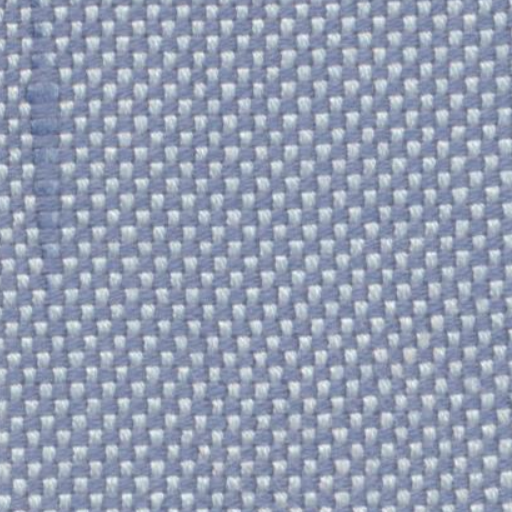DaiSha: (16, 8, 92, 286)
